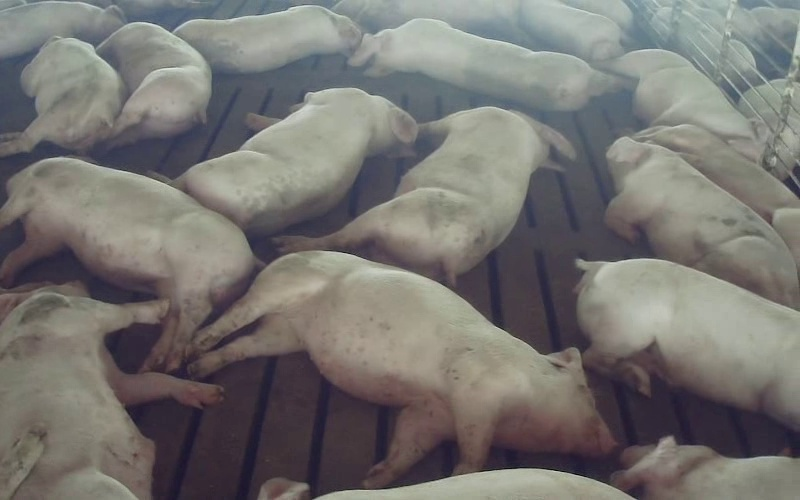pig: (189, 251, 613, 487), (0, 157, 254, 370), (276, 107, 573, 283), (576, 261, 799, 430), (605, 137, 799, 308), (348, 19, 625, 110), (634, 125, 799, 277), (595, 49, 759, 159), (0, 36, 124, 156), (96, 22, 210, 147), (174, 5, 361, 72), (0, 2, 125, 59)
